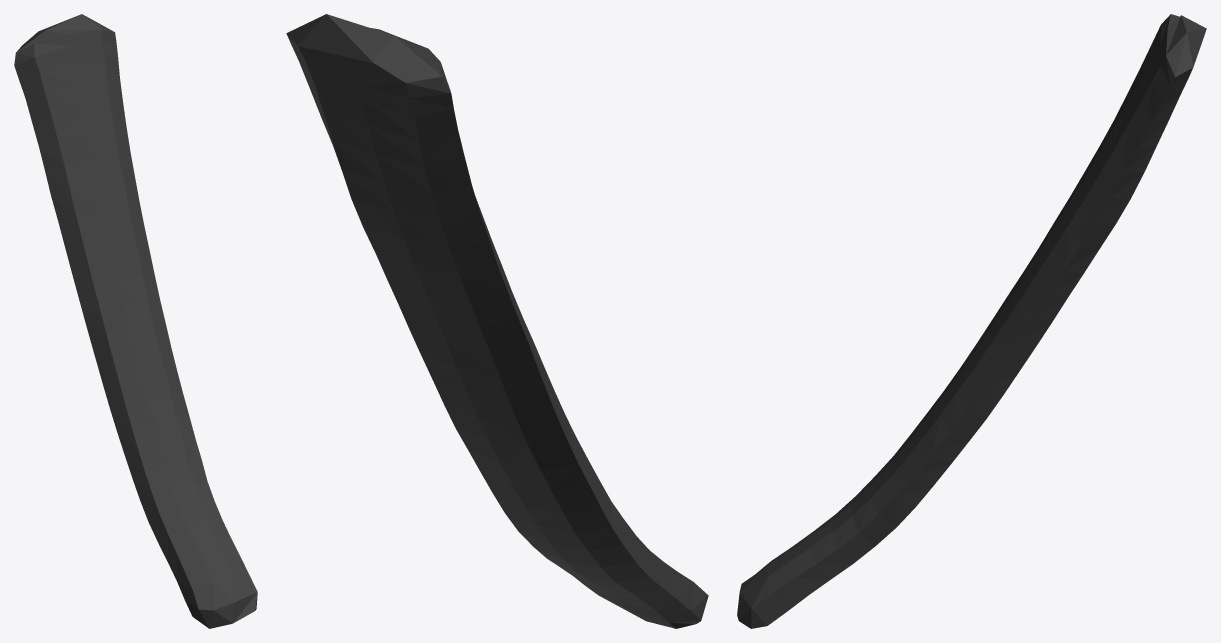
Rendered from Straight_ligament.glb.
The picture shows the model from 3 angles, left to right: view 1: azimuth 30°, elevation 25°; view 2: azimuth 150°, elevation 25°; view 3: azimuth 270°, elevation 25°; orthographic projection. The views are drawn at different scales.
Visible parts, largest first — view 1: Straight_ligament; view 2: Straight_ligament; view 3: Straight_ligament.
Part boxes in pixels (x1,y1,x2,y2): Straight_ligament: [14, 14, 257, 628]; Straight_ligament: [286, 14, 708, 628]; Straight_ligament: [737, 14, 1206, 628].
Bounding box in the file's own units: 4.93 × 22.73 × 15.96.
Materials: 1 (1 with a texture image).
